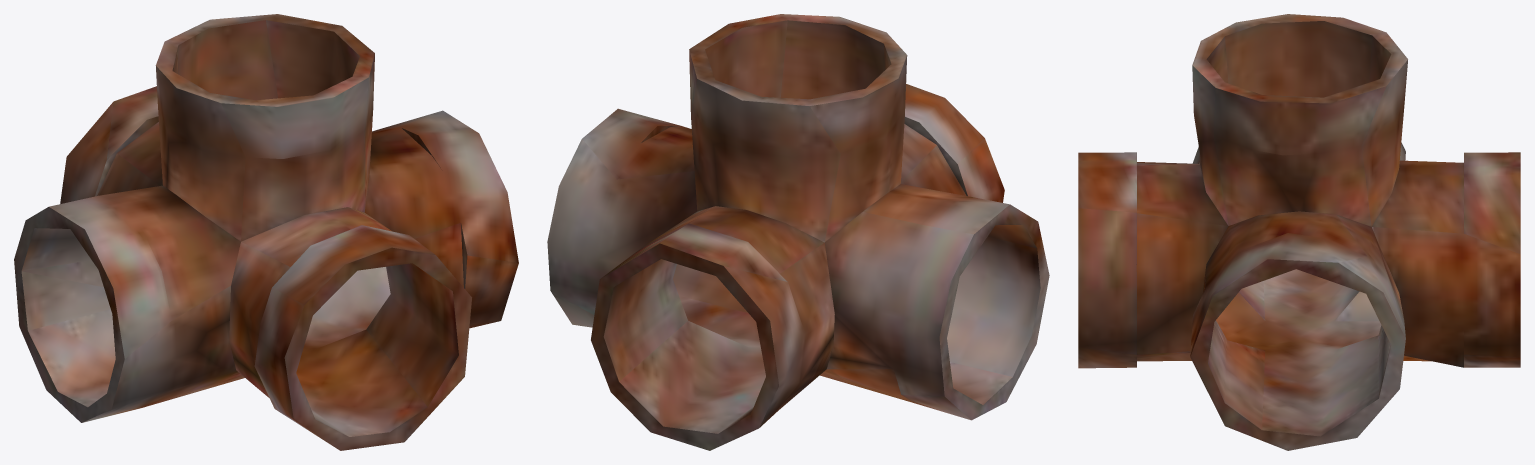
The model's file is small_steel_pipe_16.glb.
3 renders of one model, left to right at view 1: azimuth 30°, elevation 25°; view 2: azimuth 150°, elevation 25°; view 3: azimuth 270°, elevation 25°, orthographic. The views are drawn at different scales.
Visible parts, largest first — view 1: small_steel_pipe_16; view 2: small_steel_pipe_16; view 3: small_steel_pipe_16.
Boxes of the visible parts, x1,y1,x2,y2 form: small_steel_pipe_16: (14, 14, 518, 450); small_steel_pipe_16: (547, 14, 1049, 450); small_steel_pipe_16: (1078, 14, 1520, 450).
Size of what is drawn, in the model's own units: 0.0446 by 0.0331 by 0.0444.
Materials: 1 (1 with a texture image).
